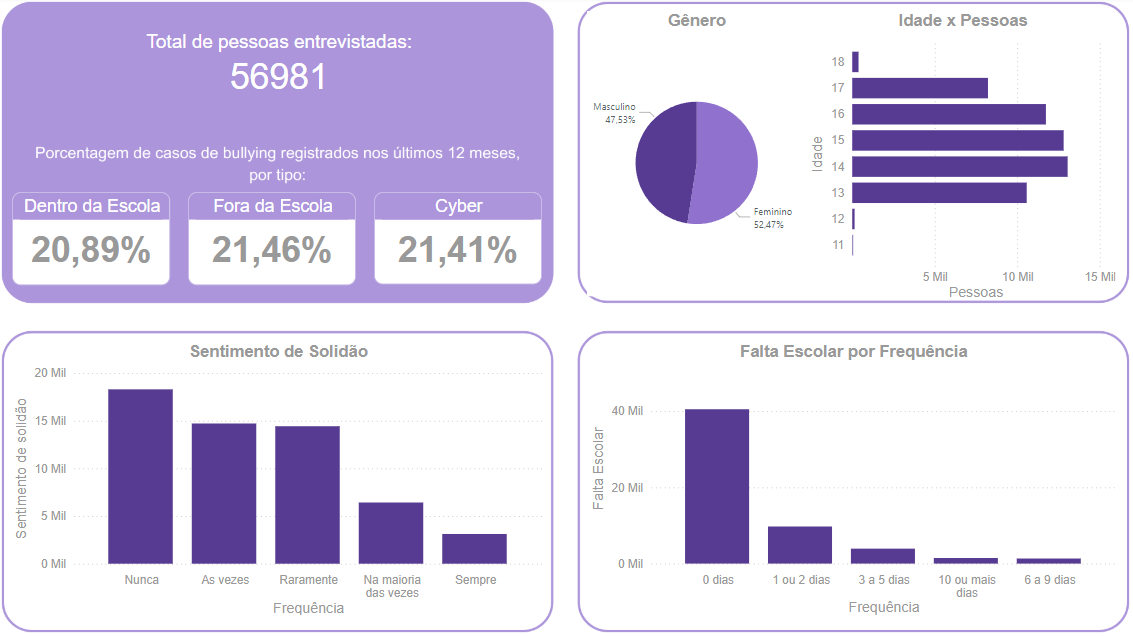

The dashboard page shown, as its layout file describes it:
{"tool":"powerbi","page":{"name":"Página 1","canvas":[1280,720],"ordinal":0},"visuals":[{"type":"card","title":"Total de pessoas entrevistadas:","fields":{"Values":["_Medidas.TotalPessoas"]},"box":[92,38.7,450.3,73.8],"z":0},{"type":"card","title":"Cyber","fields":{"Values":["_Medidas.B_Cyber"]},"box":[424.3,219.6,188.8,104.1],"z":1000},{"type":"pieChart","title":"Gênero","fields":{"Category":["d_informacoes.Sex"],"Y":["CountNonNull(d_informacoes.Sex)"]},"box":[663.4,15.7,246.9,320.8],"z":2000},{"type":"card","title":"Dentro da Escola","fields":{"Values":["_Medidas.B_Escola"]},"box":[16.7,219.1,178.5,104.6],"z":3000},{"type":"barChart","title":"Idade x Pessoas","fields":{"Category":["d_informacoes.Idade"],"Y":["_Medidas.TotalPessoas"]},"box":[910.3,15.7,353.5,329.3],"z":4000},{"type":"group","id":"g1","title":"Grupo 1","box":[14.5,388.6,604,312.3],"z":5000},{"type":"card","title":"Fora da Escola","fields":{"Values":["_Medidas.B_Fora"]},"box":[215.1,219.1,189.2,104.6],"z":6000},{"type":"clusteredColumnChart","title":"Sentimento de Solidão","fields":{"Category":["d_amizades.Sente_solitario"],"Y":["CountNonNull(d_amizades.Sente_solitario)"]},"box":[14.5,388.6,604,312.4],"z":6001,"group":"g1"},{"type":"clusteredColumnChart","fields":{"Category":["d_escola.Falta_escola_Sem_permissao"],"Y":["CountNonNull(d_escola.Falta_escola_Sem_permissao)"]},"box":[663.4,388.6,600.4,312.3],"z":7000}]}

Visuals, with their boxes in screenshot pixels (x1, y1, x2, y2), scaled from the page's 1280x720 canvas onto the 1133x636 screenshot:
"Total de pessoas entrevistadas:" card: bbox=[81, 34, 480, 99]
"Cyber" card: bbox=[376, 194, 543, 286]
"Gênero" pieChart: bbox=[587, 14, 806, 297]
"Dentro da Escola" card: bbox=[15, 194, 173, 286]
"Idade x Pessoas" barChart: bbox=[806, 14, 1119, 305]
"Grupo 1" group: bbox=[13, 343, 547, 619]
"Fora da Escola" card: bbox=[190, 194, 358, 286]
"Sentimento de Solidão" clusteredColumnChart: bbox=[13, 343, 547, 619]
clusteredColumnChart - d_escola.Falta_escola_Sem_permissao x CountNonNull(d_escola.Falta_escola_Sem_permissao): bbox=[587, 343, 1119, 619]
